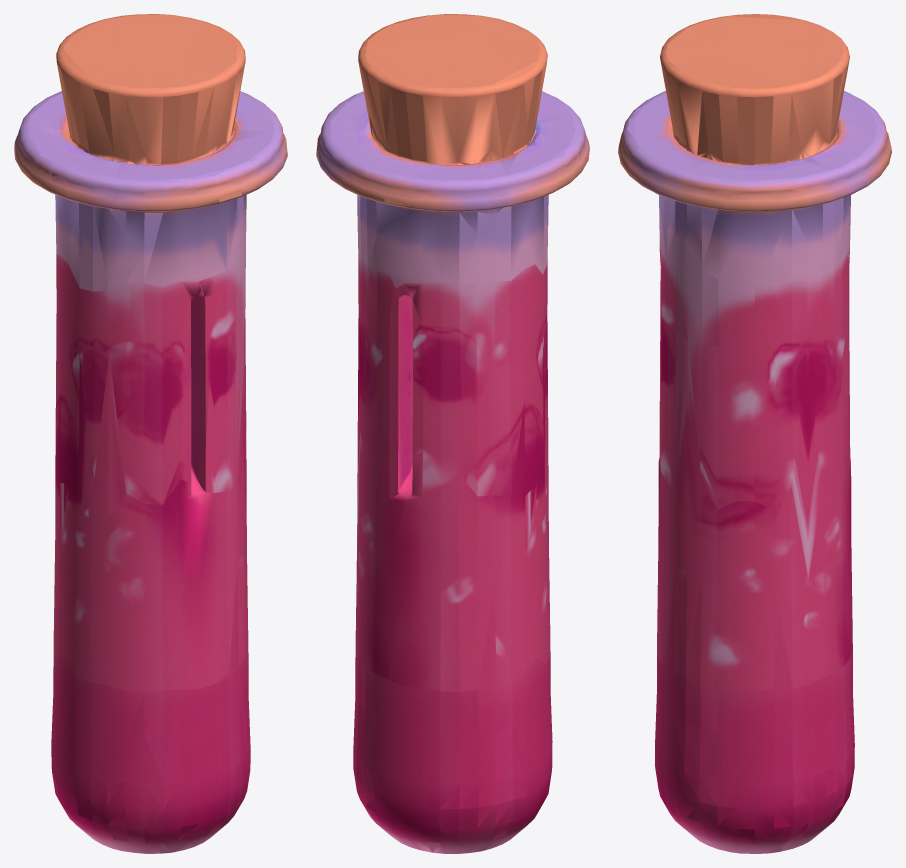
File: PoisonRojo.obj
3 renders of one model, left to right at view 1: azimuth 30°, elevation 25°; view 2: azimuth 150°, elevation 25°; view 3: azimuth 270°, elevation 25°, orthographic.
Visible parts, largest first — view 1: tripo_node_088a33e4-9779-4c3d-b885-0e25f42d78e5; view 2: tripo_node_088a33e4-9779-4c3d-b885-0e25f42d78e5; view 3: tripo_node_088a33e4-9779-4c3d-b885-0e25f42d78e5.
Part boxes in pixels (x1,y1,x2,y2): tripo_node_088a33e4-9779-4c3d-b885-0e25f42d78e5: (14, 14, 287, 853); tripo_node_088a33e4-9779-4c3d-b885-0e25f42d78e5: (316, 14, 589, 853); tripo_node_088a33e4-9779-4c3d-b885-0e25f42d78e5: (618, 14, 891, 853).
Bounding box in the file's own units: 0.3203 × 0.9999 × 0.3201.
1 material, 1 textured.
